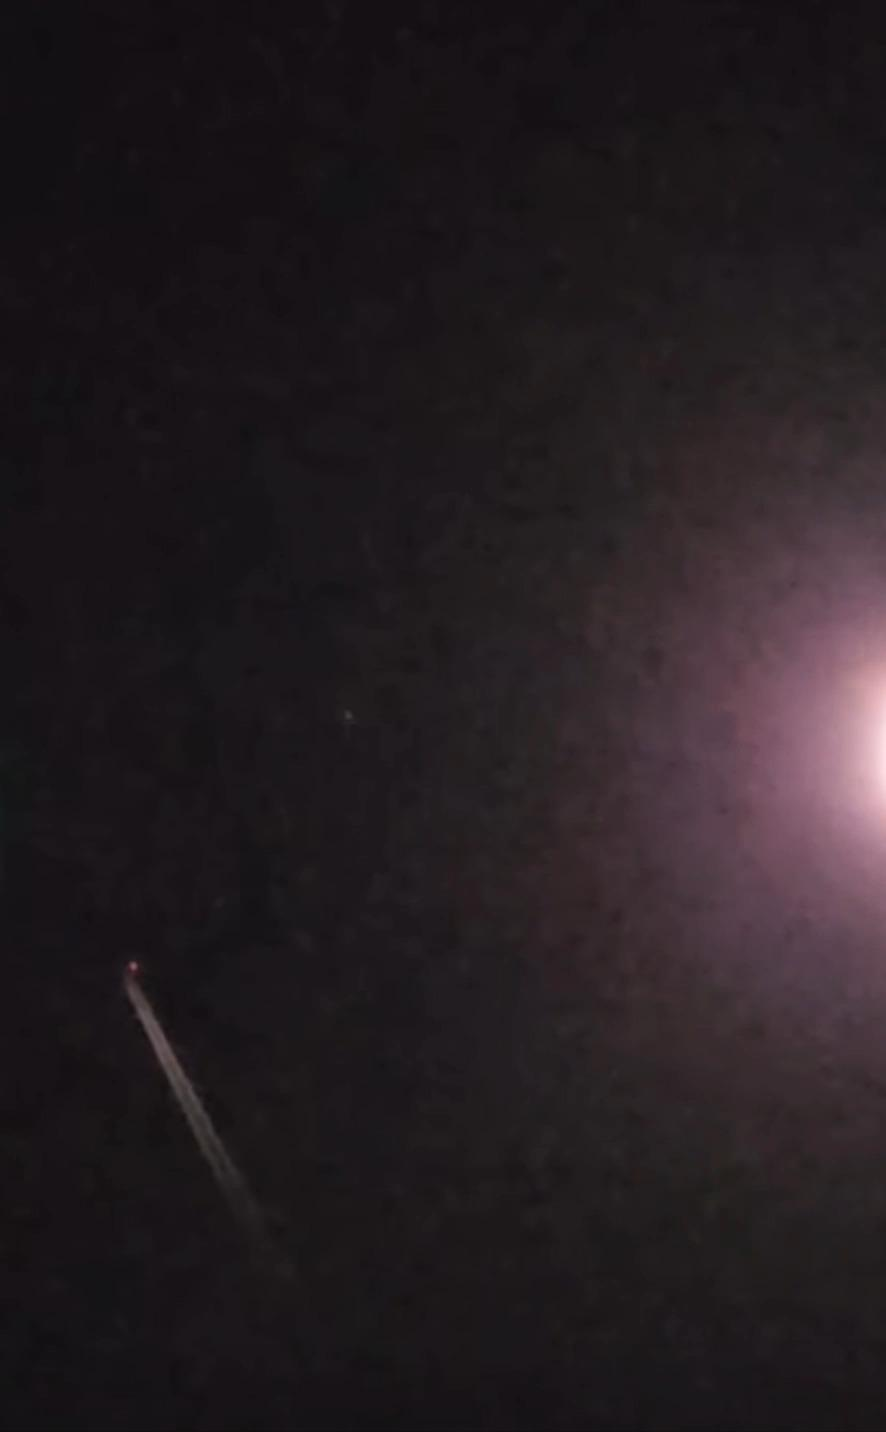Plane: (89, 929, 243, 1112)
